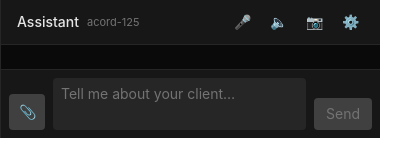
Test: ChatPanel › enables Reset when only the form has answers
Click the button named "Settings" at (350, 22), box [336, 8, 364, 36]
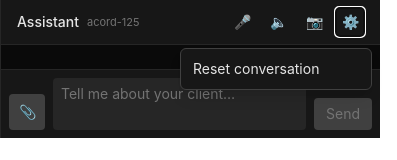
Result: the button "Reset conversation" is enabled at [185, 53, 367, 85]
